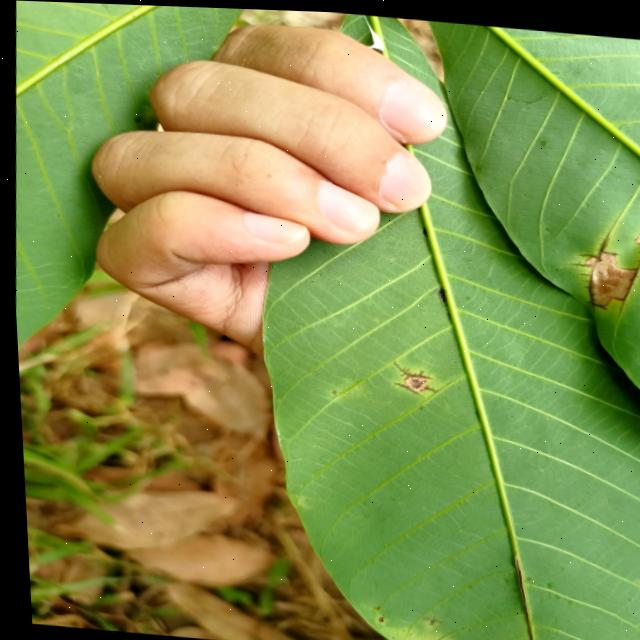Corynespora: (565, 225, 618, 307), (614, 185, 640, 299), (386, 358, 439, 395)
Leaf-Blight: (582, 248, 635, 304)
